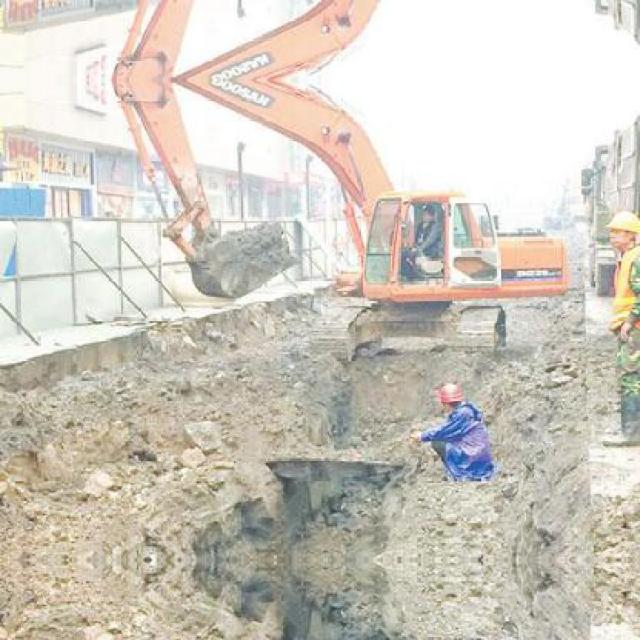helmet: (602, 206, 638, 252), (434, 381, 464, 416)
